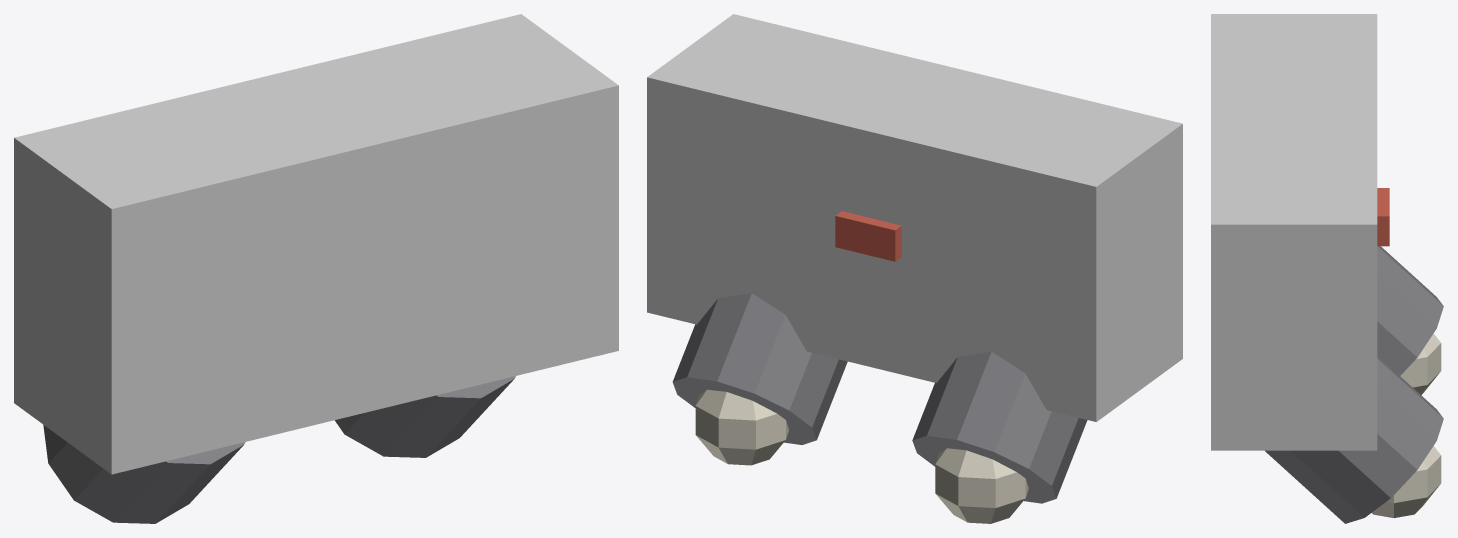
The model's file is ilu_emergencia.glb.
3 views of the same model, side by side, from view 1: azimuth 30°, elevation 25°; view 2: azimuth 150°, elevation 25°; view 3: azimuth 270°, elevation 25° (orthographic). The views are drawn at different scales.
Parts seen in each view (by area): view 1: ILU_Emergencia_v01; view 2: ILU_Emergencia_v01; view 3: ILU_Emergencia_v01.
Boxes of the visible parts, <box> form: ILU_Emergencia_v01: <box>14,14,618,523</box>; ILU_Emergencia_v01: <box>647,14,1182,523</box>; ILU_Emergencia_v01: <box>1211,14,1443,523</box>.
Size of the model in its own units: 0.3 by 0.2251 by 0.1401.
